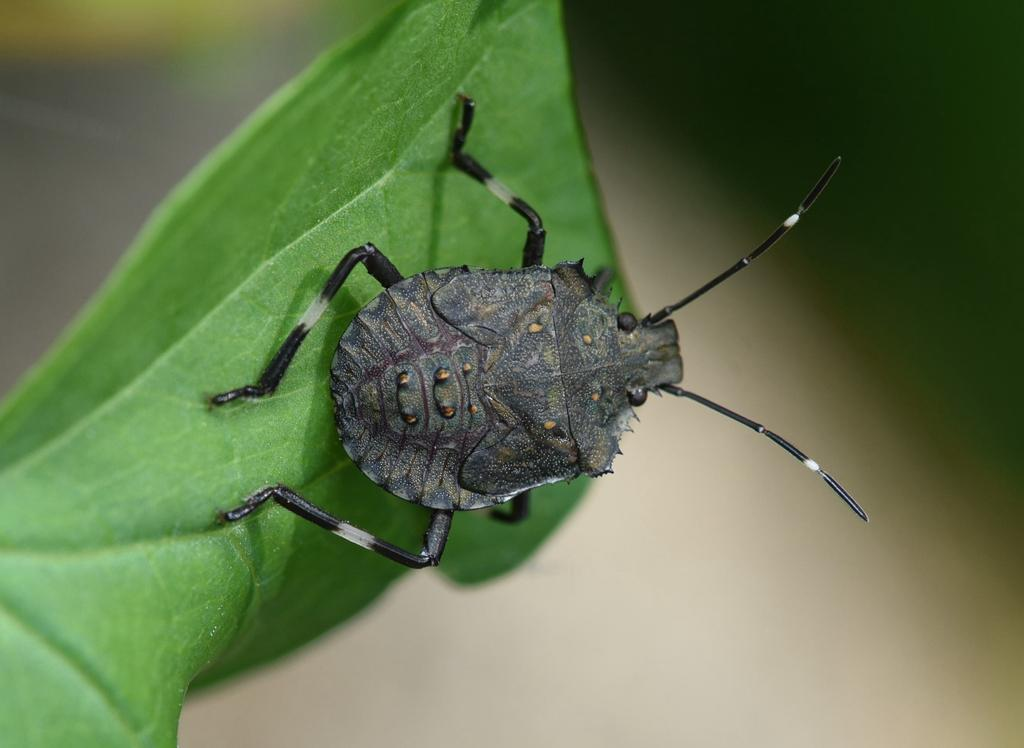stink_bugs: (171, 59, 946, 636)
